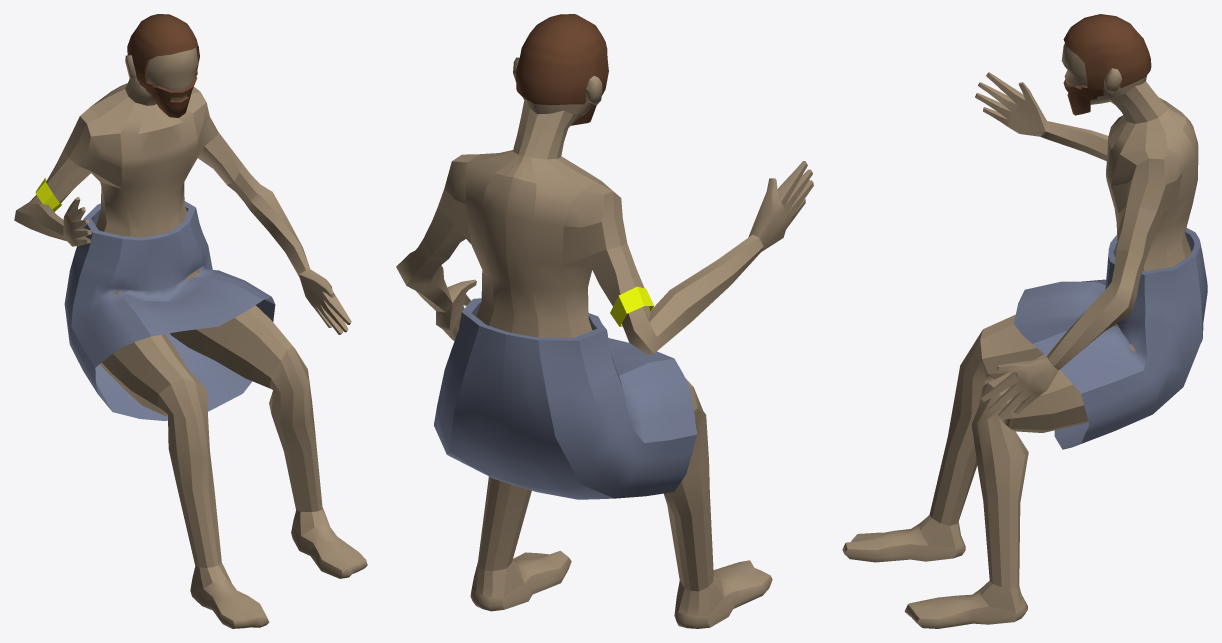
The model's file is Hombre2_Sit.fbx.
The picture shows the model from 3 angles, left to right: view 1: azimuth 30°, elevation 25°; view 2: azimuth 150°, elevation 25°; view 3: azimuth 270°, elevation 25°; orthographic projection. The views are drawn at different scales.
Parts seen in each view (by area): view 1: Hombre2_Sit; view 2: Hombre2_Sit; view 3: Hombre2_Sit.
Boxes of the visible parts, <box> form: Hombre2_Sit: <box>14,14,367,628</box>; Hombre2_Sit: <box>396,14,813,628</box>; Hombre2_Sit: <box>842,14,1207,628</box>.
Bounding box in the file's own units: 753 × 1392 × 837.
